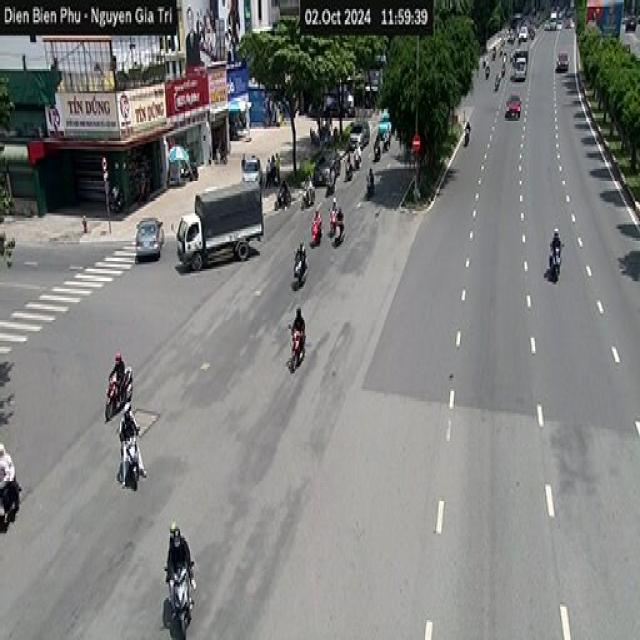car: (135, 216, 164, 260), (240, 153, 262, 184), (505, 93, 521, 118), (555, 51, 569, 71)
motorcycle: (0, 478, 21, 531), (122, 435, 140, 492), (286, 322, 305, 373), (292, 246, 308, 286), (548, 242, 562, 282), (332, 213, 343, 244)
person: (163, 524, 189, 566), (290, 306, 305, 358)
truck: (175, 178, 265, 271)
